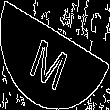M_NE: (32, 22, 78, 88)
